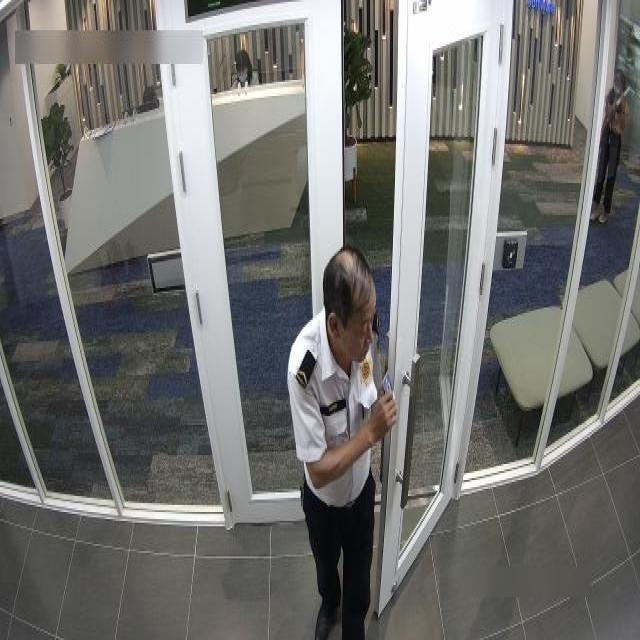bare_hand: (356, 384, 402, 455)
